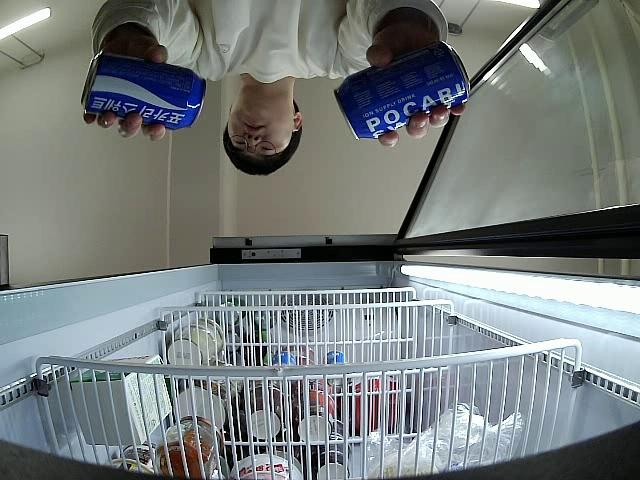00_hand: (367, 30, 466, 147), (85, 34, 170, 140)
13_pocariSweat: (333, 39, 473, 140), (80, 50, 208, 129)
